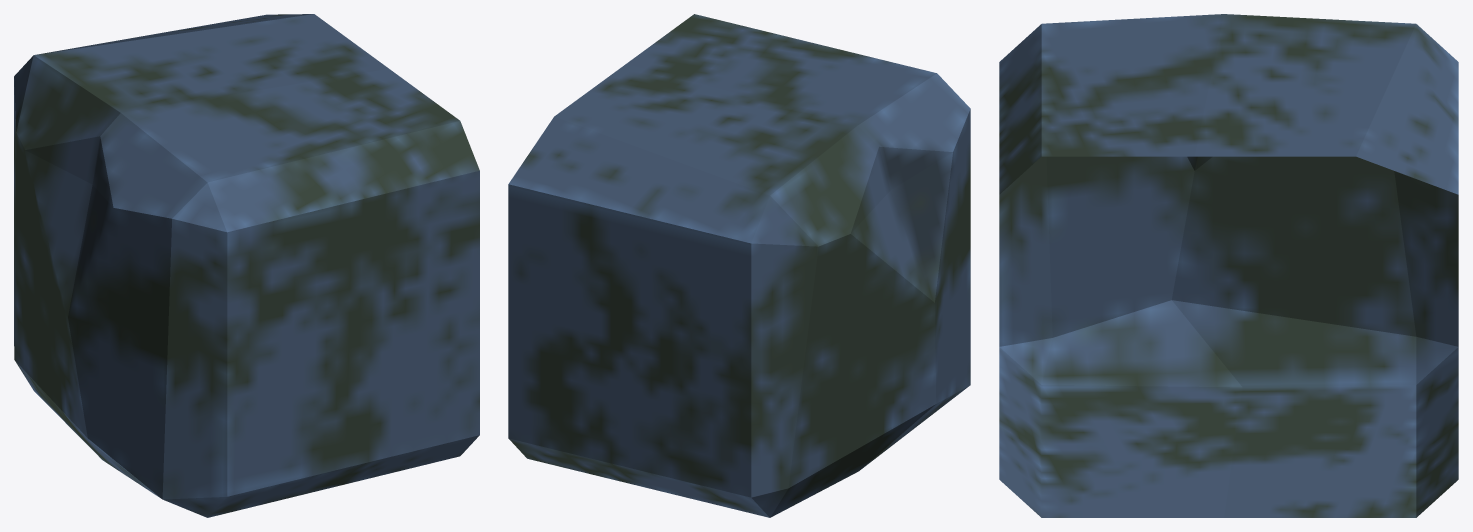
The model's file is Cegla_5.fbx.
3 views of the same model, side by side, from view 1: azimuth 30°, elevation 25°; view 2: azimuth 150°, elevation 25°; view 3: azimuth 270°, elevation 25° (orthographic). The views are drawn at different scales.
Parts seen in each view (by area): view 1: Cegla_5; view 2: Cegla_5; view 3: Cegla_5.
Part boxes in pixels (x1,y1,x2,y2): Cegla_5: (14, 14, 479, 517); Cegla_5: (508, 14, 970, 517); Cegla_5: (999, 14, 1458, 517).
Bounding box in the file's own units: 200 × 209 × 230.
